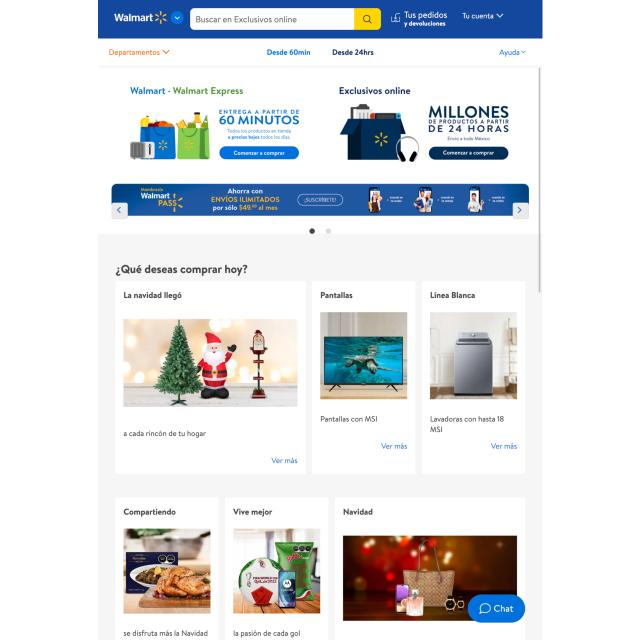CheckBox: (469, 594, 525, 623), (270, 455, 298, 465), (489, 442, 518, 450)
CheckedTextView: (190, 8, 382, 31)
Spinner: (116, 281, 306, 473), (312, 281, 416, 475), (422, 281, 526, 474)
alert: (108, 47, 171, 58), (462, 11, 505, 20), (499, 48, 528, 57), (170, 10, 184, 24)
bag: (98, 0, 542, 65)
breadcrumbs: (123, 506, 177, 518), (122, 290, 182, 300), (429, 290, 476, 301), (232, 508, 274, 518), (342, 505, 374, 517), (320, 290, 354, 300)
carousel: (478, 602, 491, 616)
date picker: (114, 9, 168, 27)
dropdown: (306, 226, 334, 235)
